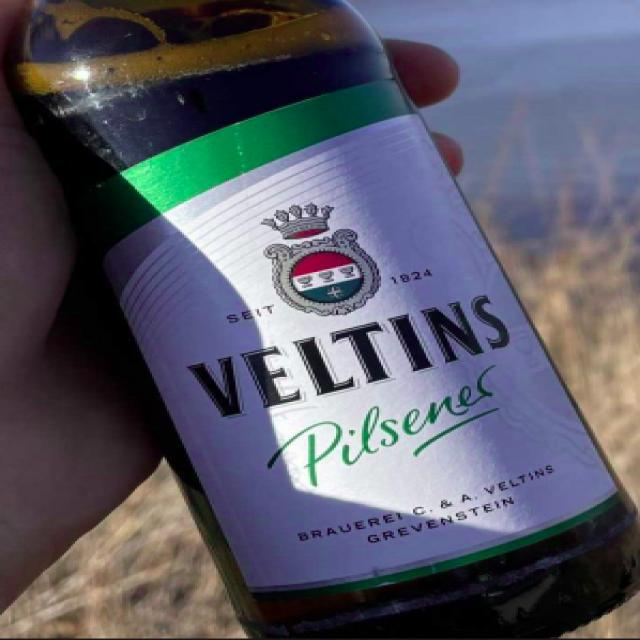Veltins Pilsener: (2, 1, 640, 640)
